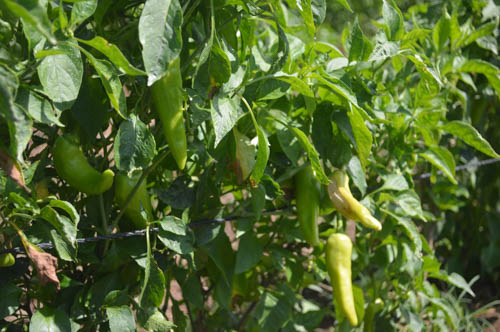ChiliPepper: (52, 136, 114, 198), (154, 59, 187, 169), (330, 171, 384, 231), (326, 235, 362, 325), (113, 174, 155, 228), (292, 168, 319, 245)
